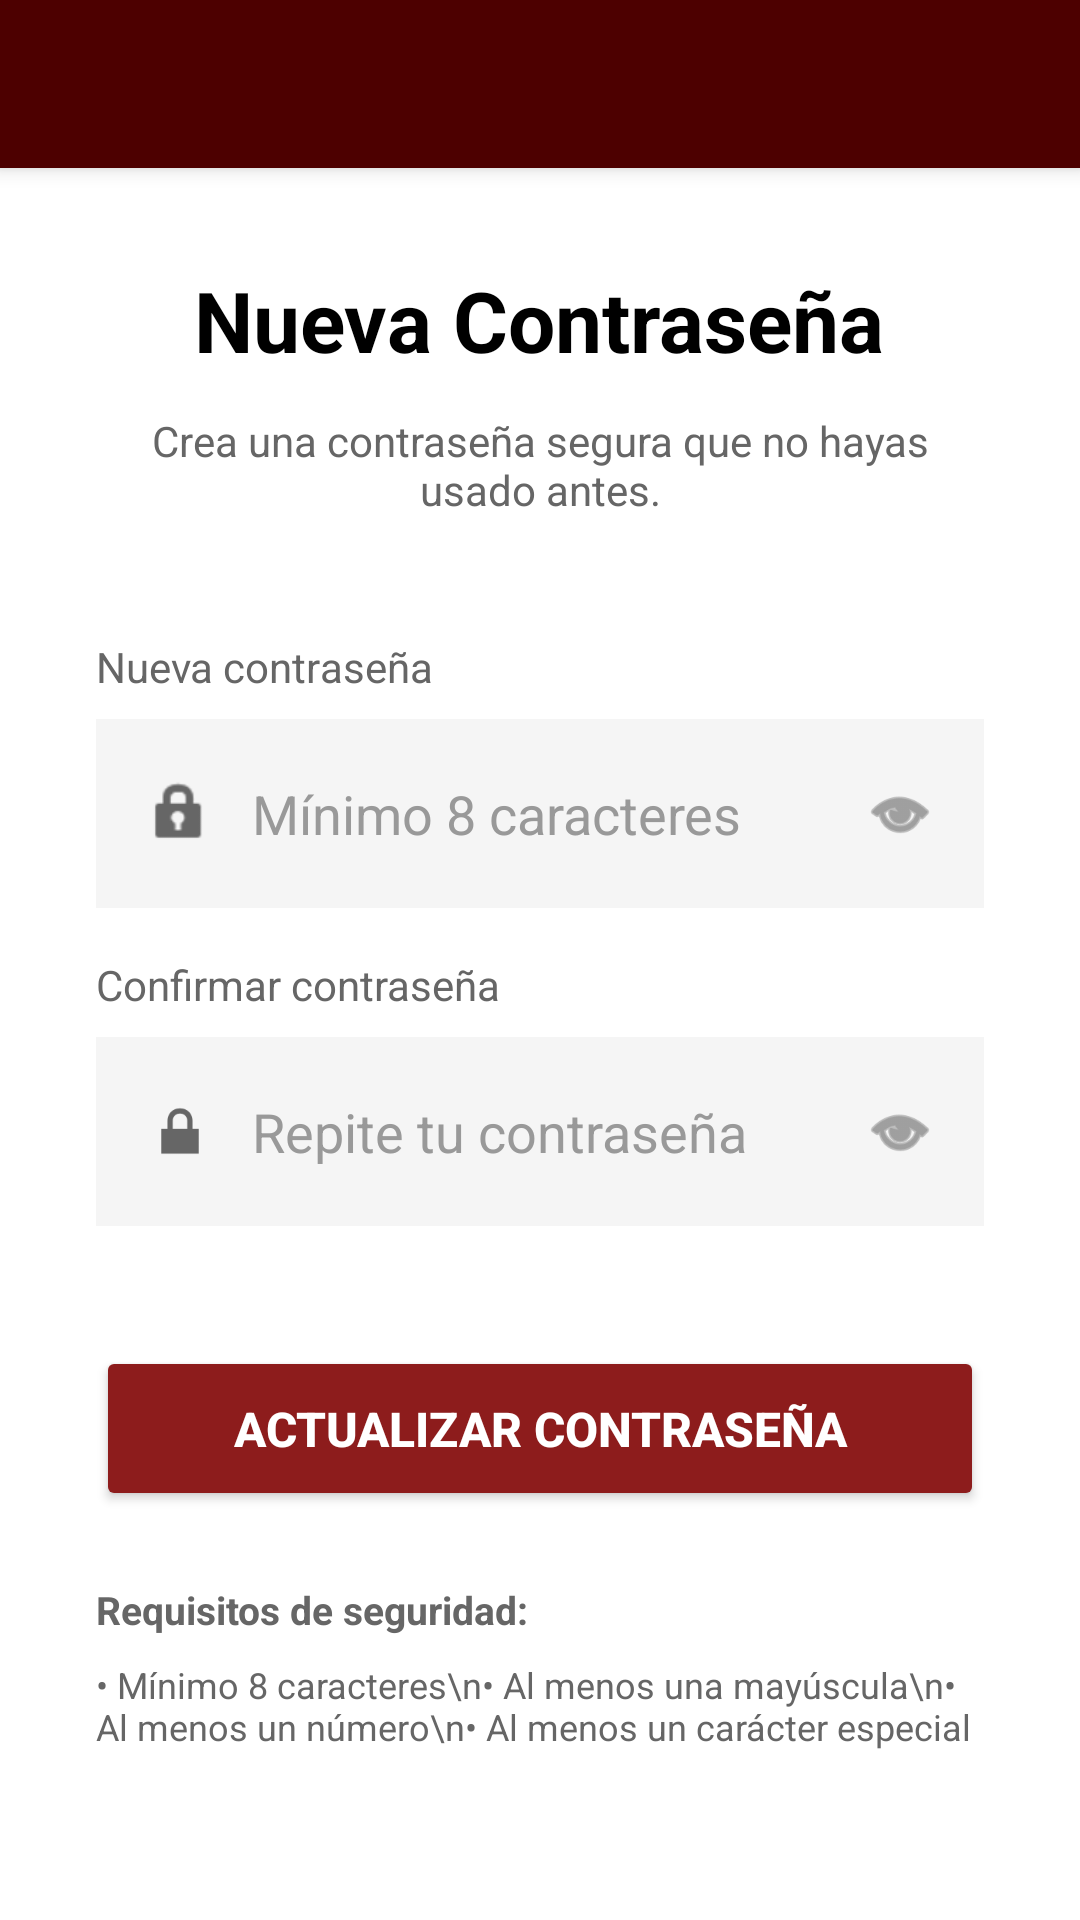

Where icons sit on this 1080px x 1920px app screen, as {"x1": x1, "y1": y1, "x2": x2, "y2": y2}:
lock: {"x1": 161, "y1": 1108, "x2": 199, "y2": 1154}
lock idle: {"x1": 155, "y1": 783, "x2": 202, "y2": 838}
view: {"x1": 871, "y1": 797, "x2": 929, "y2": 833}, {"x1": 871, "y1": 1115, "x2": 929, "y2": 1151}
